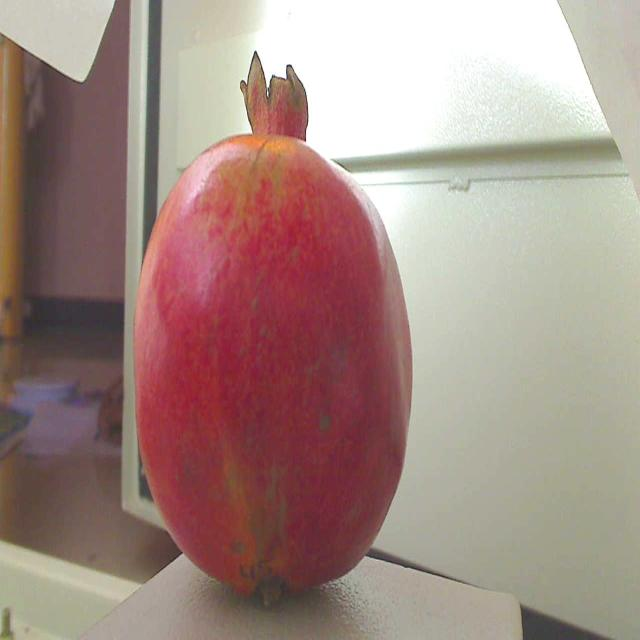pomegranate: (121, 40, 426, 606)
